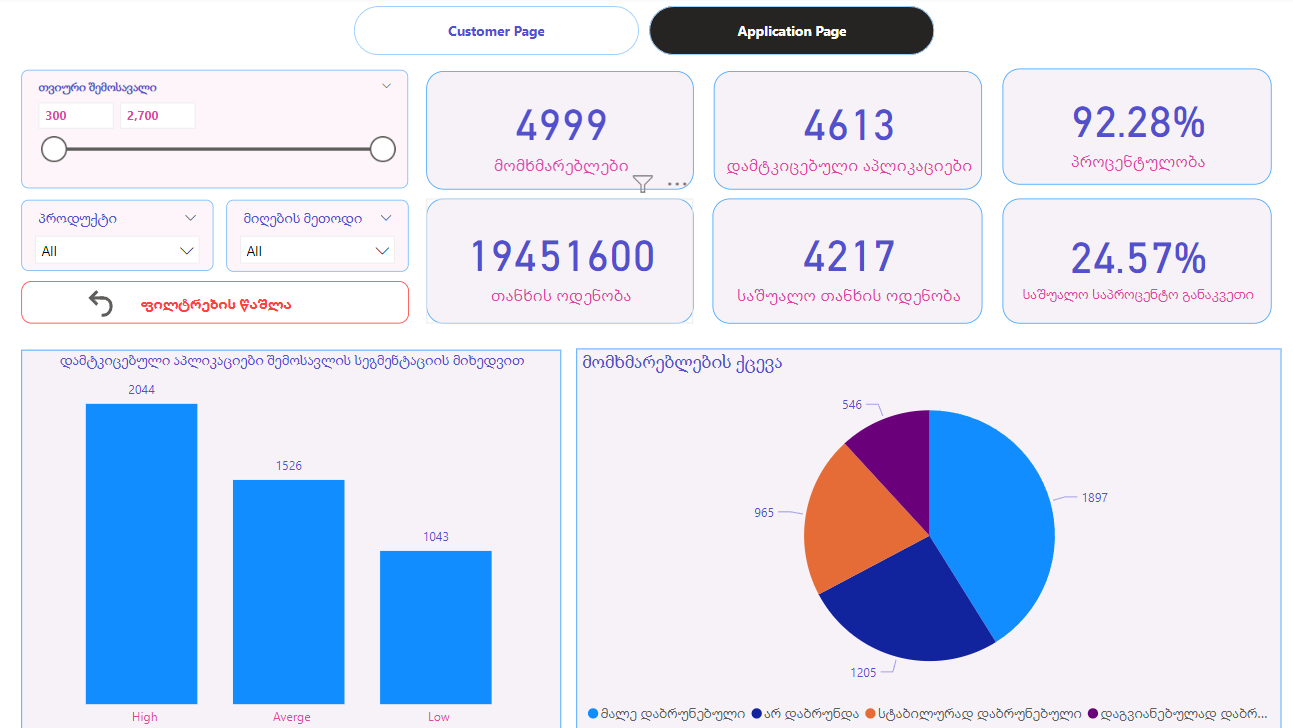

The dashboard page shown, as its layout file describes it:
{"tool":"powerbi","page":{"name":"Application Page","canvas":[1280,720],"ordinal":1},"visuals":[{"type":"pageNavigator","box":[356,9.3,569.3,48],"z":0},{"type":"slicer","fields":{"Values":["Customer data.Monthly Income"]},"box":[30.7,72,378.7,116],"z":1000},{"type":"card","fields":{"Values":["Measure Table.დამტკიცებული აპლიკაციები"]},"box":[708,73.3,262.7,116],"z":2000},{"type":"card","fields":{"Values":["Measure Table.რაოდენობა"]},"box":[426.8,198.3,261.5,122.1],"z":3000},{"type":"card","fields":{"Values":["Measure Table.საშუალო თანხის ოდენობა"]},"box":[707,198.3,264.4,122.1],"z":4000},{"type":"card","fields":{"Values":["Measure Table.საშუალო საპროცენტო განაკვეთი"]},"box":[990,198.3,263,122.1],"z":5000},{"type":"card","fields":{"Values":["Measure Table.პროცენტულობა"]},"box":[990.6,71.4,263.2,113.7],"z":6000},{"type":"slicer","fields":{"Values":["applications data.Product"]},"box":[30.7,198.7,188,69.3],"z":7000},{"type":"slicer","fields":{"Values":["applications data.Submission Method"]},"box":[230.7,198.7,178.7,70.7],"z":8000},{"type":"clusteredColumnChart","title":"დამტკიცებული აპლიკაციები შემოსავლის სეგმენტაციის მიხედვით ","fields":{"Category":["Customer data.Incom Range"],"Y":["Measure Table.დამტკიცებული აპლიკაციები"]},"box":[30.7,345.3,528,376],"z":9000},{"type":"pieChart","title":"მომხმარებლების ქცევა ","fields":{"Y":["Measure Table.მომხმარებლები"],"Category":["applications data.Customer Segmentation"]},"box":[573.3,344.9,689.7,375],"z":10000},{"type":"card","fields":{"Values":["Measure Table.მომხმარებლები"]},"box":[427.2,72.7,261.9,116.4],"z":11000},{"type":"actionButton","box":[30.2,278.8,379.3,41.7],"z":12000}]}

Visuals, with their boxes in screenshot pixels (x1, y1, x2, y2), scaled from the page's 1280x720 canvas onto the 1293x728 screenshot:
pageNavigator: [360,9,935,58]
slicer - Customer data.Monthly Income: [31,73,414,190]
card - Measure Table.დამტკიცებული აპლიკაციები: [715,74,981,191]
card - Measure Table.რაოდენობა: [431,201,695,324]
card - Measure Table.საშუალო თანხის ოდენობა: [714,201,981,324]
card - Measure Table.საშუალო საპროცენტო განაკვეთი: [1000,201,1266,324]
card - Measure Table.პროცენტულობა: [1001,72,1267,187]
slicer - applications data.Product: [31,201,221,271]
slicer - applications data.Submission Method: [233,201,414,272]
"დამტკიცებული აპლიკაციები შემოსავლის სეგმენტაციის მიხედვით " clusteredColumnChart: [31,349,564,727]
"მომხმარებლების ქცევა " pieChart: [579,349,1276,727]
card - Measure Table.მომხმარებლები: [432,74,696,191]
actionButton: [31,282,414,324]
